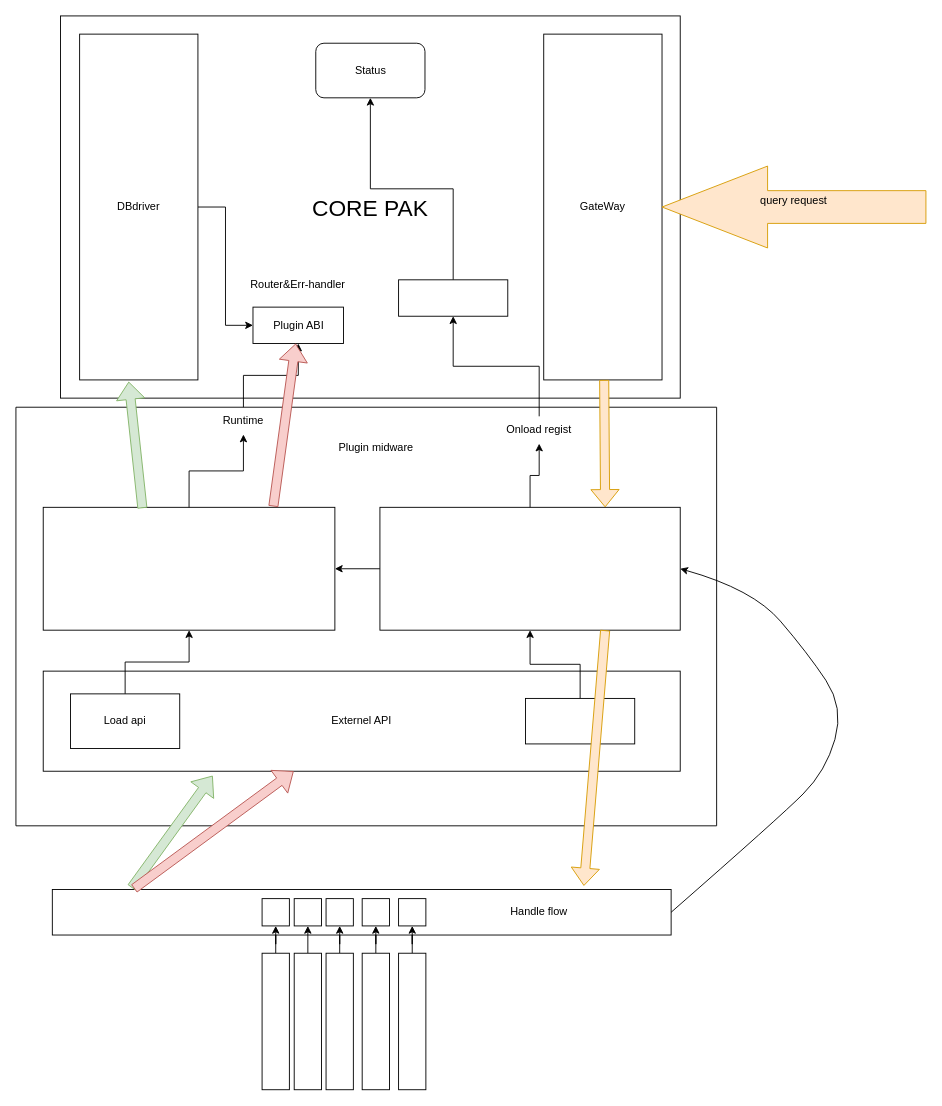
The diagram is 942 pixels wide and 1106 high, and some of its shapes have lost their labels. The shapes that lost their labels are listed below. From the top down, each one's box as (x1, y1, x2, y2) in pixels, then its label:
(398, 279, 508, 316): Plugin loader
(42, 506, 335, 630): Plugin handle
(379, 506, 680, 630): Plugin manager
(525, 698, 635, 744): handle controller
